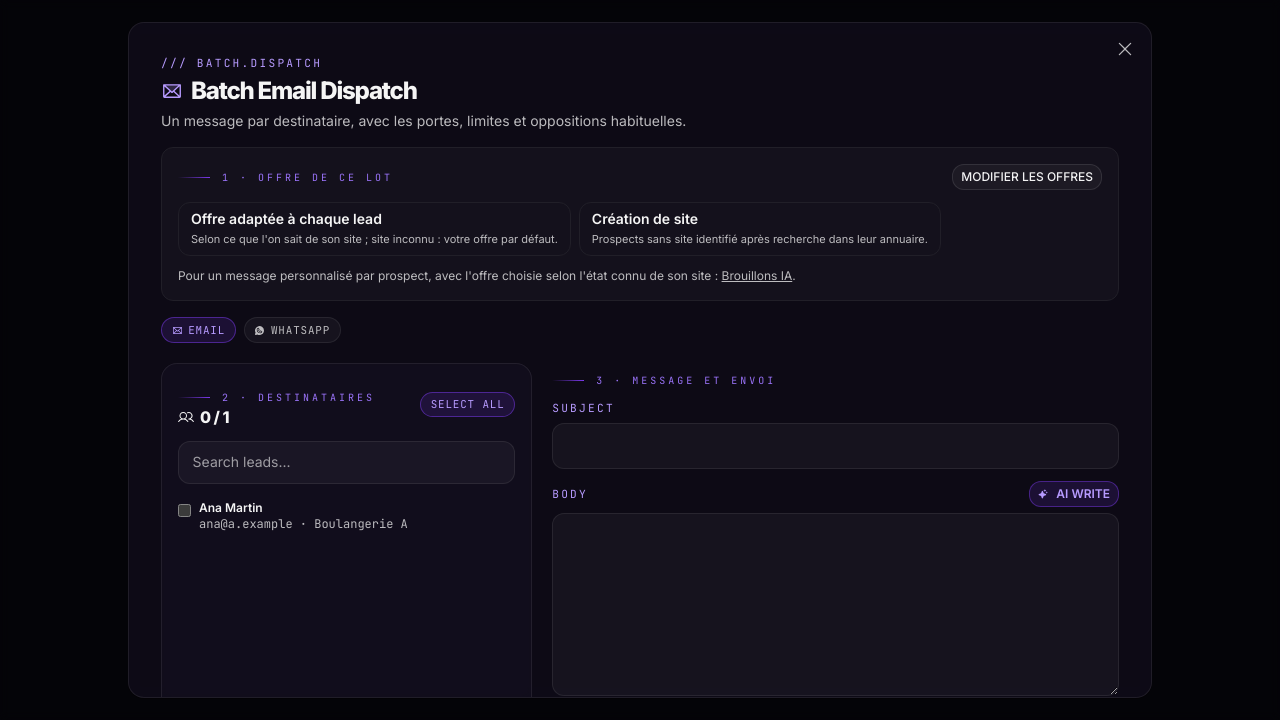
Test: a targeted batch shows the server's split by offer and sends each lead its own offer, with no shared text
The image size is (1280, 720).
Later steps or results of the test are not shown.
Click the radio button that starts with "Offre adaptée à chaque lead" at [374, 229], box [178,202,571,256]
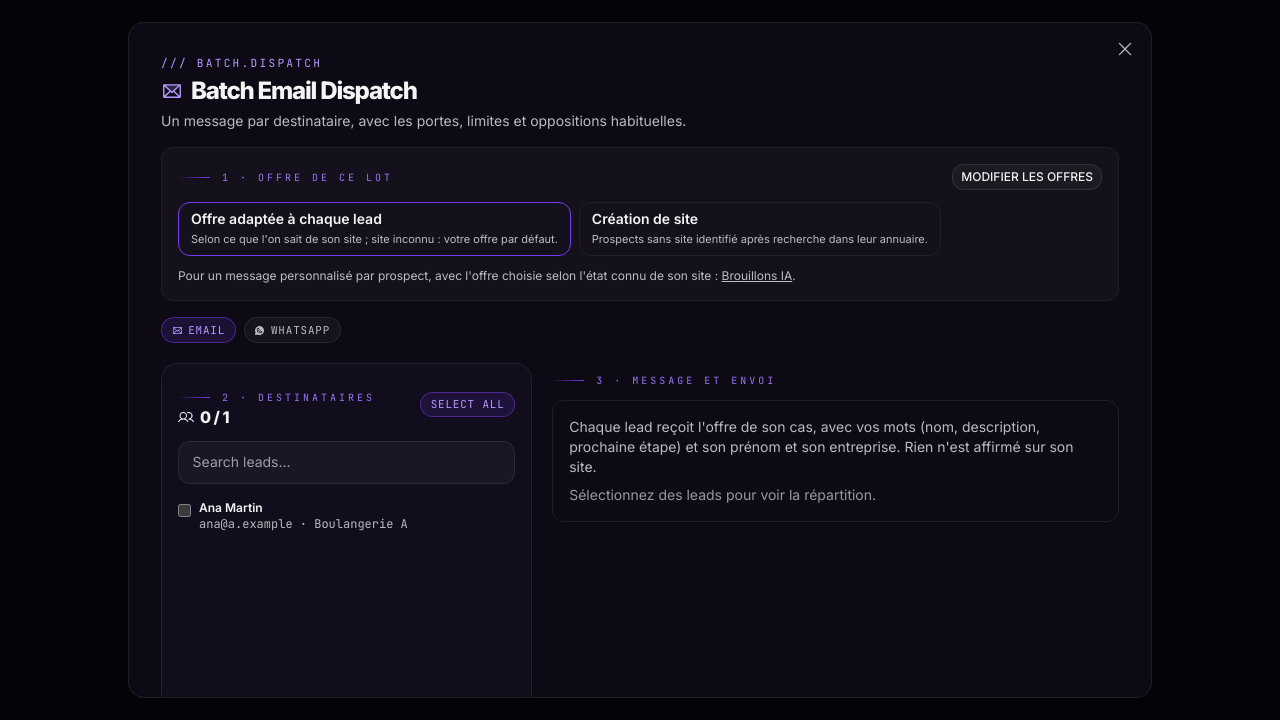
Click the checkbox labelled "Ana Martin ana@a.example · Boulangerie A" at [184, 510], box [178,504,191,516]
(page scrolled)
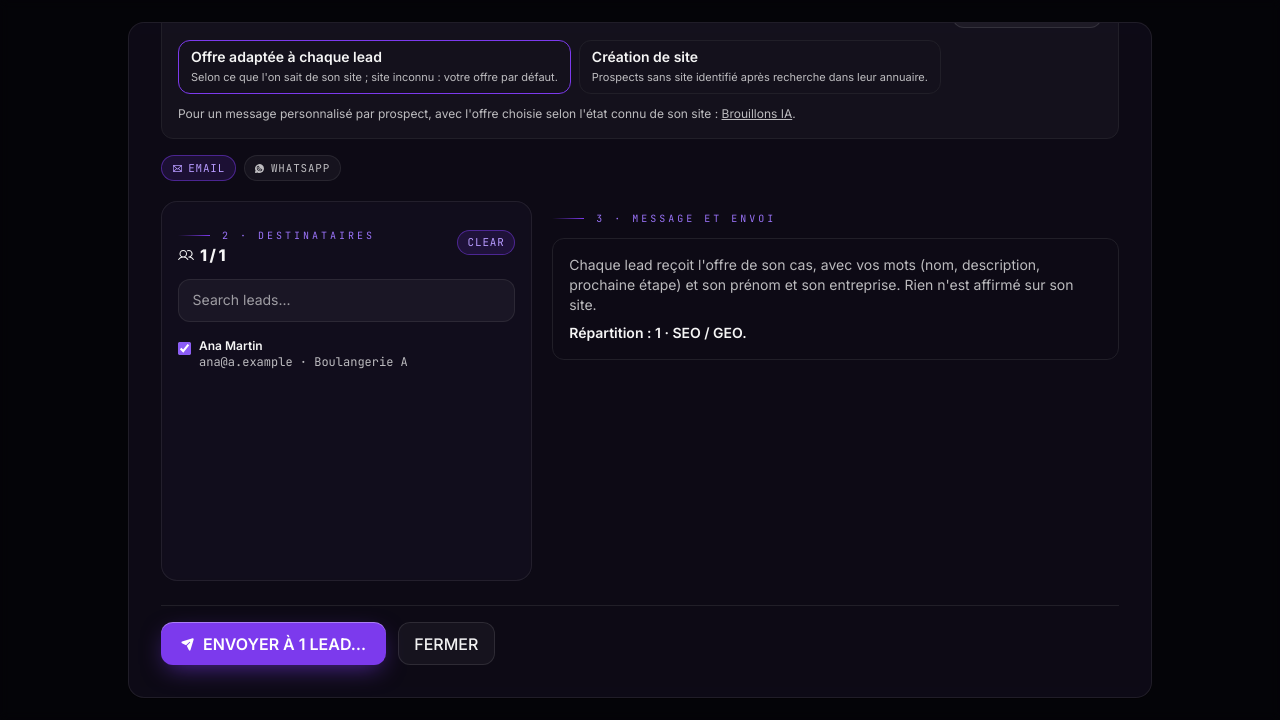
expect the text "Répartition : 1 · SEO / GEO." is shown: met, box [569,324,747,341]
